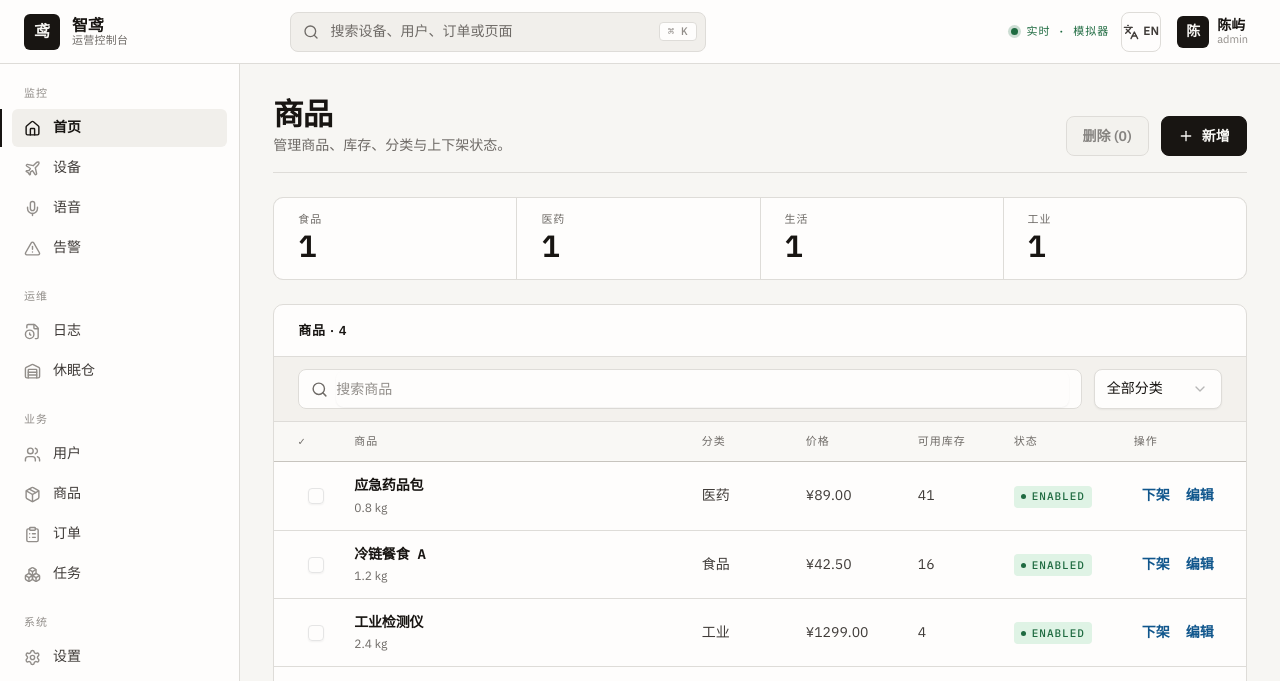
GoodsView › filters by category
The width and height of the screenshot is (1280, 681).
Select "医药" in the dropdown named "分类" at x=1158, y=389, box [1094,369,1222,409]
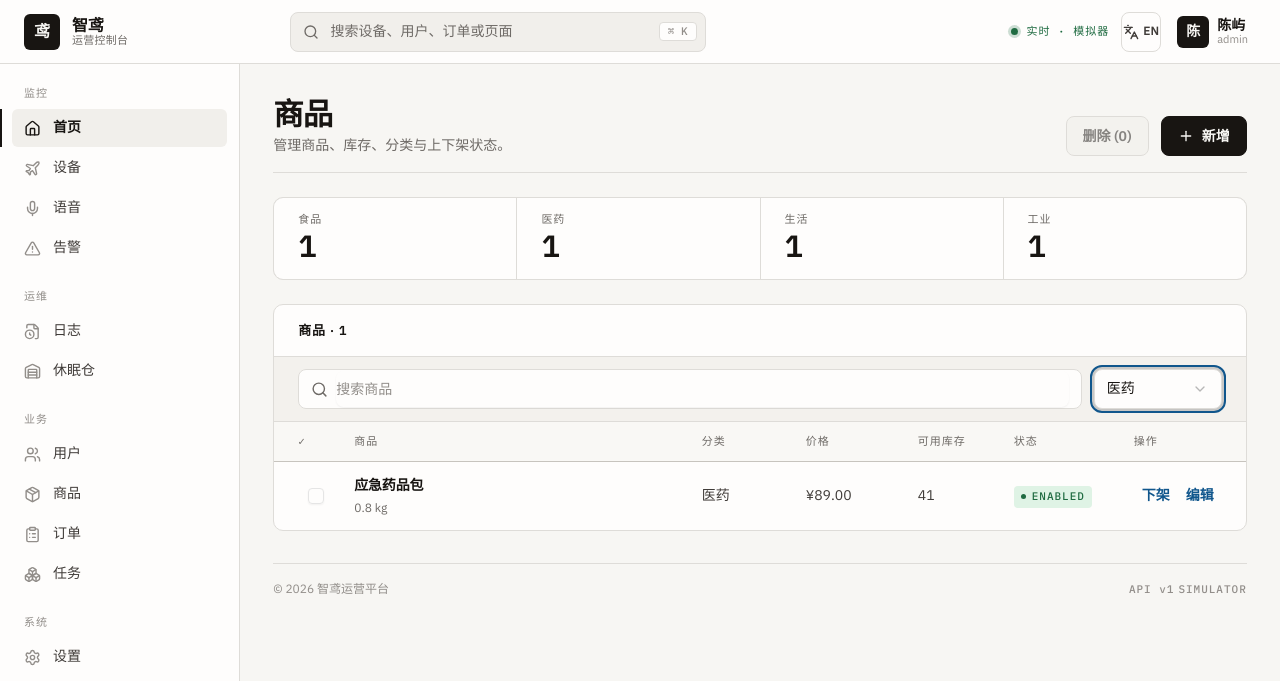
Result: the text "冷链餐食 A" is gone
